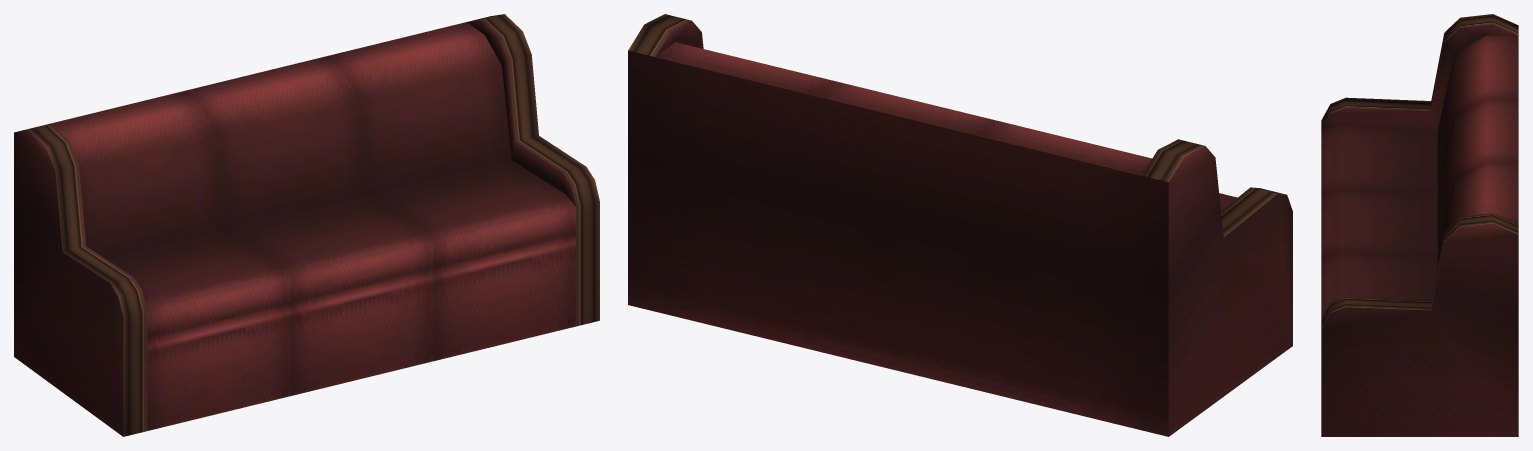
File: couch_med_reg.fbx
3 views of the same model, side by side, from view 1: azimuth 30°, elevation 25°; view 2: azimuth 150°, elevation 25°; view 3: azimuth 270°, elevation 25° (orthographic). The views are drawn at different scales.
Visible parts, largest first — view 1: mesh_0; view 2: mesh_0; view 3: mesh_0.
Boxes of the visible parts, x1,y1,x2,y2 form: mesh_0: [14, 14, 599, 436]; mesh_0: [628, 14, 1292, 436]; mesh_0: [1321, 14, 1518, 436].
Bounding box in the file's own units: 200 × 95.04 × 79.51.
1 material, 1 textured.
